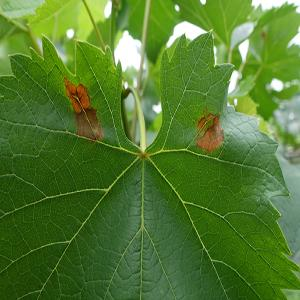Folha: (0, 28, 299, 300)
Fungo: (64, 76, 103, 140), (196, 111, 224, 153), (74, 105, 104, 140), (64, 76, 90, 114), (76, 82, 90, 110), (197, 112, 215, 131), (64, 76, 76, 98), (136, 149, 149, 160), (197, 116, 205, 130)
